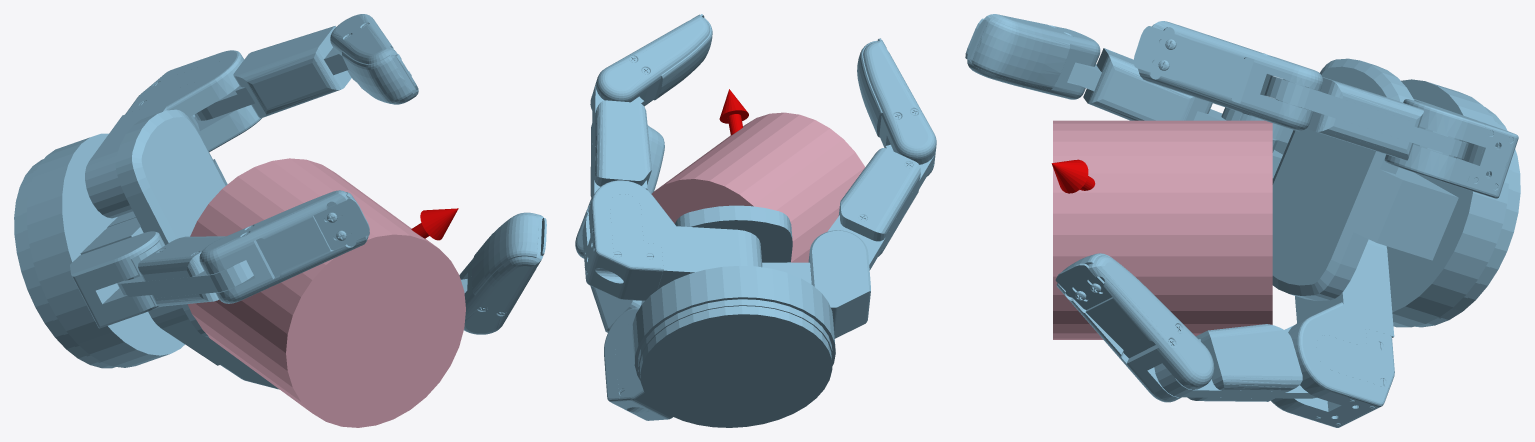
The picture shows the model from 3 angles, left to right: view 1: azimuth 30°, elevation 25°; view 2: azimuth 150°, elevation 25°; view 3: azimuth 270°, elevation 25°; orthographic projection. The views are drawn at different scales.
Visible parts, largest first — view 1: world, cylinder_medium.stl; view 2: world, cylinder_medium.stl; view 3: world, cylinder_medium.stl.
Boxes of the visible parts, left/top/right/bottom form: world: left=14, top=14, right=546, bottom=389; cylinder_medium.stl: left=187, top=158, right=465, bottom=427; world: left=575, top=14, right=936, bottom=427; cylinder_medium.stl: left=651, top=112, right=865, bottom=262; world: left=965, top=14, right=1520, bottom=427; cylinder_medium.stl: left=1053, top=120, right=1272, bottom=339.
Size of the model in its own units: 0.1712 by 0.1682 by 0.2024.
